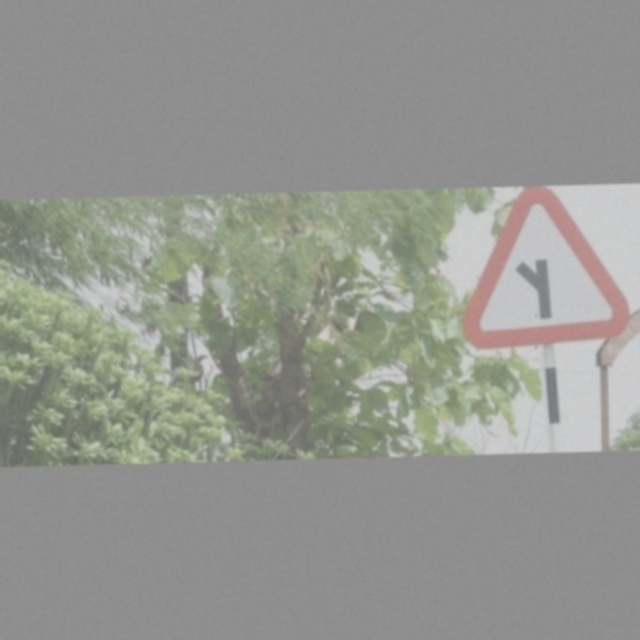Y_Intersection: (465, 189, 620, 347)
